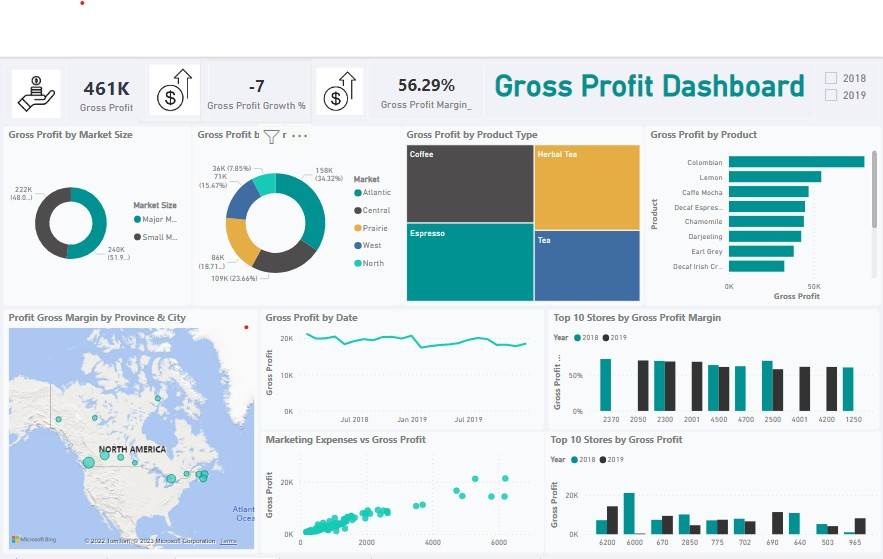

This screenshot's page, from the dashboard's own definition file:
{"tool":"powerbi","page":{"name":"Gross Profit","canvas":[1280,720],"ordinal":2},"visuals":[{"type":"card","fields":{"Values":["Sum(Sheet1.Gross Profit)"]},"box":[96.3,4.3,118.2,87.8],"z":0,"group":"g1"},{"type":"textbox","box":[701.3,5.8,476.6,80.6],"z":0},{"type":"image","box":[7.2,7.7,92.5,84.2],"z":1000,"group":"g1"},{"type":"clusteredColumnChart","title":"Top 10 Stores by Gross Profit Margin","fields":{"Category":["Sheet1.Store#"],"Series":["Sheet1.Year"],"Y":["Sheet1.Gross Profit Margin_"]},"box":[793.4,360,478.1,174.2],"z":1000},{"type":"slicer","fields":{"Values":["Sheet1.Year"]},"box":[1177.9,5.8,93.6,86.4],"z":2000},{"type":"donutChart","fields":{"Category":["Sheet1.Market Size"],"Y":["Sum(Sheet1.Gross Profit)"]},"box":[7.2,96.5,272.2,259.2],"z":3000},{"type":"donutChart","fields":{"Category":["Sheet1.Market"],"Y":["Sum(Sheet1.Gross Profit)"]},"box":[279.4,96.5,302.4,259.2],"z":4000},{"type":"treemap","fields":{"Group":["Sheet1.Product Type"],"Values":["Sum(Sheet1.Gross Profit)"]},"box":[581.8,96.5,351.4,259.2],"z":5000},{"type":"clusteredBarChart","fields":{"Category":["Sheet1.Product"],"Y":["Sum(Sheet1.Gross Profit)"]},"box":[933.1,96.5,341.3,259.2],"z":6000},{"type":"image","box":[203,0,100.9,87],"z":7000,"group":"g2"},{"type":"image","box":[447.8,4.3,88.6,82.1],"z":7000,"group":"g3"},{"type":"lineChart","fields":{"Category":["Sheet1.Date"],"Y":["Sum(Sheet1.Gross Profit)"]},"box":[378.7,360,410.4,174.2],"z":7000},{"type":"card","fields":{"Values":["Sheet1.Gross Profit Growth %"]},"box":[290.7,1.2,161.3,91],"z":8000,"group":"g2"},{"type":"card","fields":{"Values":["Sheet1.Gross Profit Margin_"]},"box":[532.3,2.9,169,85],"z":8000,"group":"g3"},{"type":"map","title":"Profit Gross Margin by Province & City","fields":{"Category":["canadacities.province_name","canadacities.city"],"Y":["Avg(canadacities.lat)"],"X":["Avg(canadacities.lng)"],"Size":["Sum(Sheet1.Gross Profit)"]},"box":[7.2,360,368.6,352.8],"z":8000},{"type":"group","id":"g1","title":"Group 1","box":[7.2,4.3,207.4,87.8],"z":9000},{"type":"group","id":"g2","title":"Group 2","box":[203,0,249.1,92.2],"z":10000},{"type":"scatterChart","title":"Marketing Expenses vs Gross Profit ","fields":{"X":["Sum(Sheet1.Marketing Expenses)"],"Category":["Sheet1.Store#"],"Y":["Sum(Sheet1.Gross Profit)"]},"box":[378.7,537.1,410.4,175.7],"z":11000},{"type":"group","id":"g3","title":"Group 2","box":[447.8,2.9,253.4,85],"z":12000},{"type":"clusteredColumnChart","title":"Top 10 Stores by Gross Profit","fields":{"Category":["Sheet1.Store#"],"Series":["Sheet1.Year"],"Y":["Sum(Sheet1.Gross Profit)"]},"box":[789.1,537.1,485.3,175.7],"z":13000}]}

Visuals, with their boxes on the page's 1280x720 design canvas (x1, y1, x2, y2). These are canvas units, not pixel positions in the 883x559 screenshot, which may show the page scaled, cropped or inside an application window:
card - Sum(Sheet1.Gross Profit): Rect(96, 4, 214, 92)
textbox: Rect(701, 6, 1178, 86)
image: Rect(7, 8, 100, 92)
"Top 10 Stores by Gross Profit Margin" clusteredColumnChart: Rect(793, 360, 1272, 534)
slicer - Sheet1.Year: Rect(1178, 6, 1272, 92)
donutChart - Sheet1.Market Size x Sum(Sheet1.Gross Profit): Rect(7, 96, 279, 356)
donutChart - Sheet1.Market x Sum(Sheet1.Gross Profit): Rect(279, 96, 582, 356)
treemap - Sheet1.Product Type x Sum(Sheet1.Gross Profit): Rect(582, 96, 933, 356)
clusteredBarChart - Sheet1.Product x Sum(Sheet1.Gross Profit): Rect(933, 96, 1274, 356)
image: Rect(203, 0, 304, 87)
image: Rect(448, 4, 536, 86)
lineChart - Sheet1.Date x Sum(Sheet1.Gross Profit): Rect(379, 360, 789, 534)
card - Sheet1.Gross Profit Growth %: Rect(291, 1, 452, 92)
card - Sheet1.Gross Profit Margin_: Rect(532, 3, 701, 88)
"Profit Gross Margin by Province & City" map: Rect(7, 360, 376, 713)
"Group 1" group: Rect(7, 4, 215, 92)
"Group 2" group: Rect(203, 0, 452, 92)
"Marketing Expenses vs Gross Profit " scatterChart: Rect(379, 537, 789, 713)
"Group 2" group: Rect(448, 3, 701, 88)
"Top 10 Stores by Gross Profit" clusteredColumnChart: Rect(789, 537, 1274, 713)
